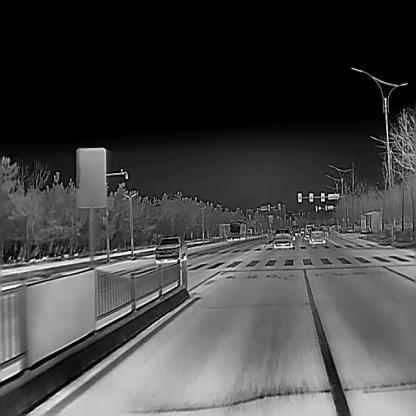car: (154, 234, 187, 265), (272, 228, 294, 248), (228, 221, 246, 242), (309, 226, 325, 244), (302, 223, 315, 239), (284, 226, 294, 240), (290, 223, 300, 236), (319, 224, 329, 235), (298, 225, 306, 234)
